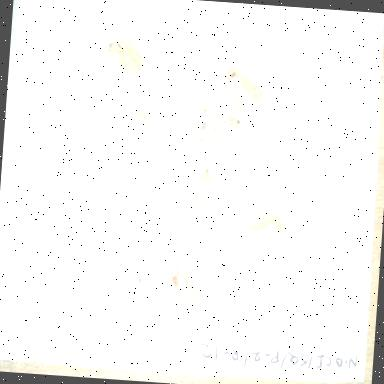abw: (208, 54, 274, 132), (186, 83, 247, 154), (176, 156, 224, 241), (116, 101, 178, 164), (161, 258, 214, 328), (99, 29, 159, 86), (102, 232, 150, 290), (237, 203, 290, 251)
